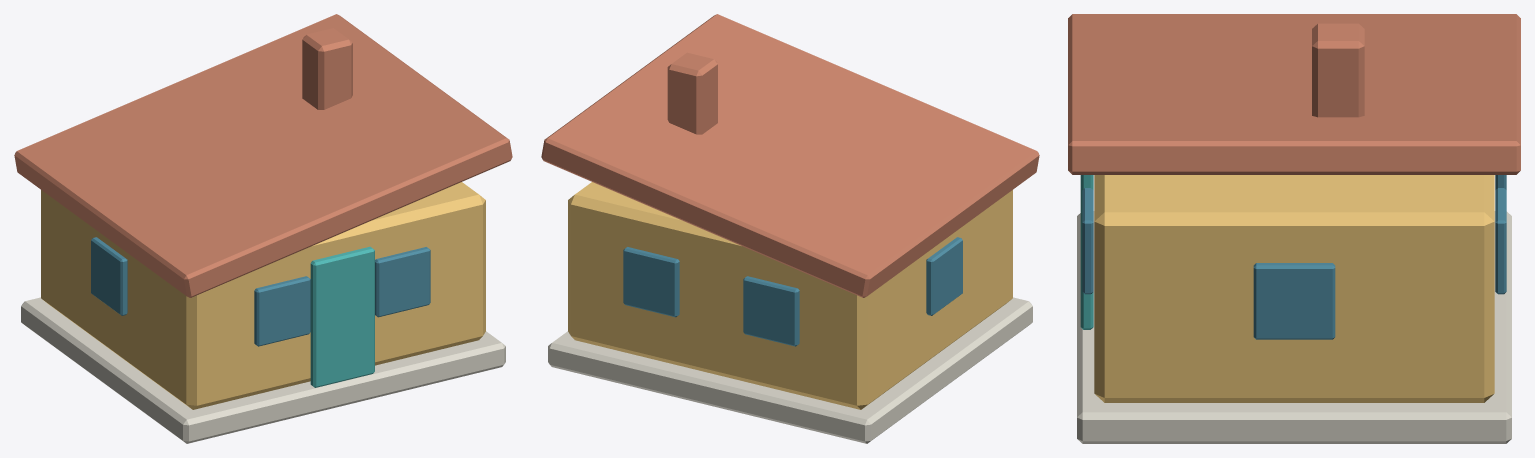
The model's file is RES_LOW_1x1_005.glb.
The picture shows the model from 3 angles, left to right: view 1: azimuth 30°, elevation 25°; view 2: azimuth 150°, elevation 25°; view 3: azimuth 270°, elevation 25°; orthographic projection. The views are drawn at different scales.
Visible parts, largest first — view 1: RES_LOW_1x1_005_Visual; view 2: RES_LOW_1x1_005_Visual; view 3: RES_LOW_1x1_005_Visual.
Boxes of the visible parts, <box> form: RES_LOW_1x1_005_Visual: <box>14,14,512,443</box>; RES_LOW_1x1_005_Visual: <box>541,14,1039,443</box>; RES_LOW_1x1_005_Visual: <box>1068,14,1520,443</box>.
Size of what is drawn, in the model's own units: 1.7 by 1.37 by 1.55.
